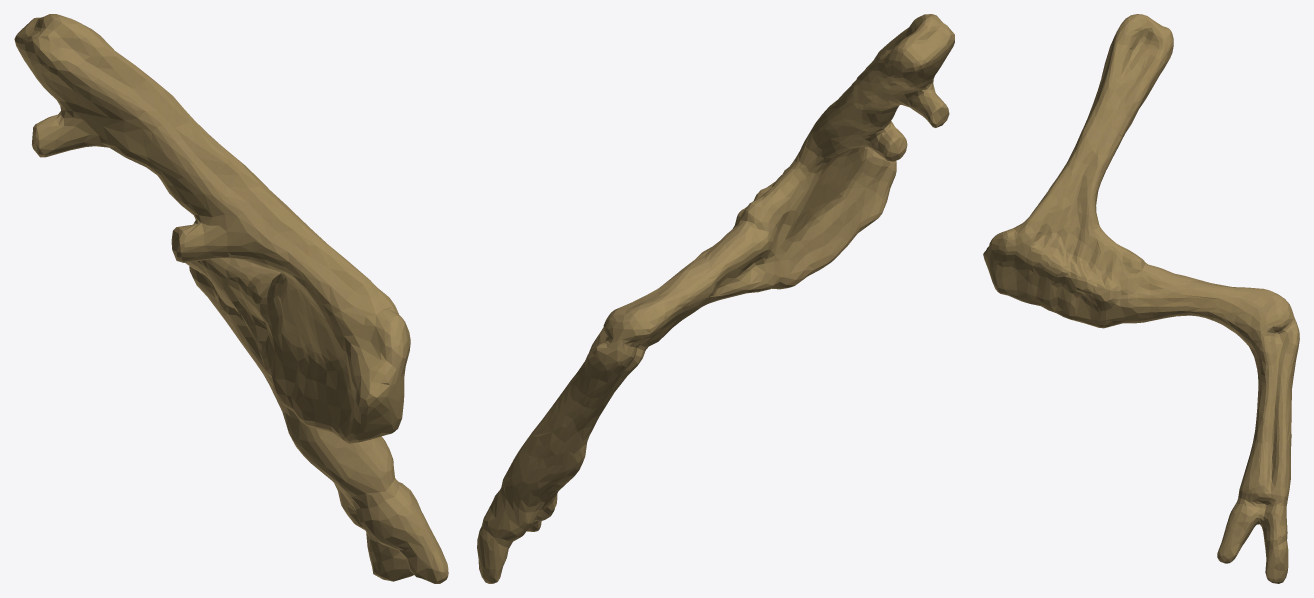
The model's file is bone8.glb.
3 views of the same model, side by side, from view 1: azimuth 30°, elevation 25°; view 2: azimuth 150°, elevation 25°; view 3: azimuth 270°, elevation 25° (orthographic). The views are drawn at different scales.
Parts seen in each view (by area): view 1: tripo_node_d94ec363-dce0-4538-b234-2cd05878f993; view 2: tripo_node_d94ec363-dce0-4538-b234-2cd05878f993; view 3: tripo_node_d94ec363-dce0-4538-b234-2cd05878f993.
Part boxes in pixels (x1,y1,x2,y2): tripo_node_d94ec363-dce0-4538-b234-2cd05878f993: (14, 14, 448, 583); tripo_node_d94ec363-dce0-4538-b234-2cd05878f993: (477, 14, 954, 583); tripo_node_d94ec363-dce0-4538-b234-2cd05878f993: (983, 14, 1299, 583).
Bounding box in the file's own units: 0.6737 × 0.9794 × 0.6385.
Materials: 1 (1 with a texture image).
